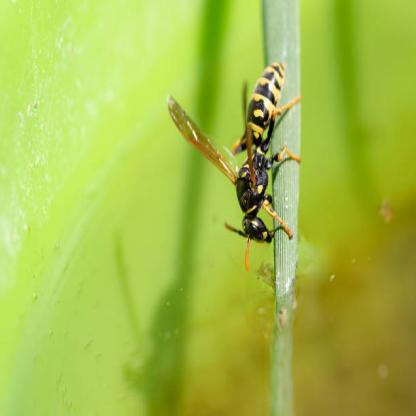sawfly: (167, 58, 306, 277)
